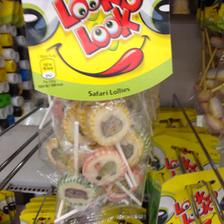Suessigkeit: (20, 0, 174, 224)
